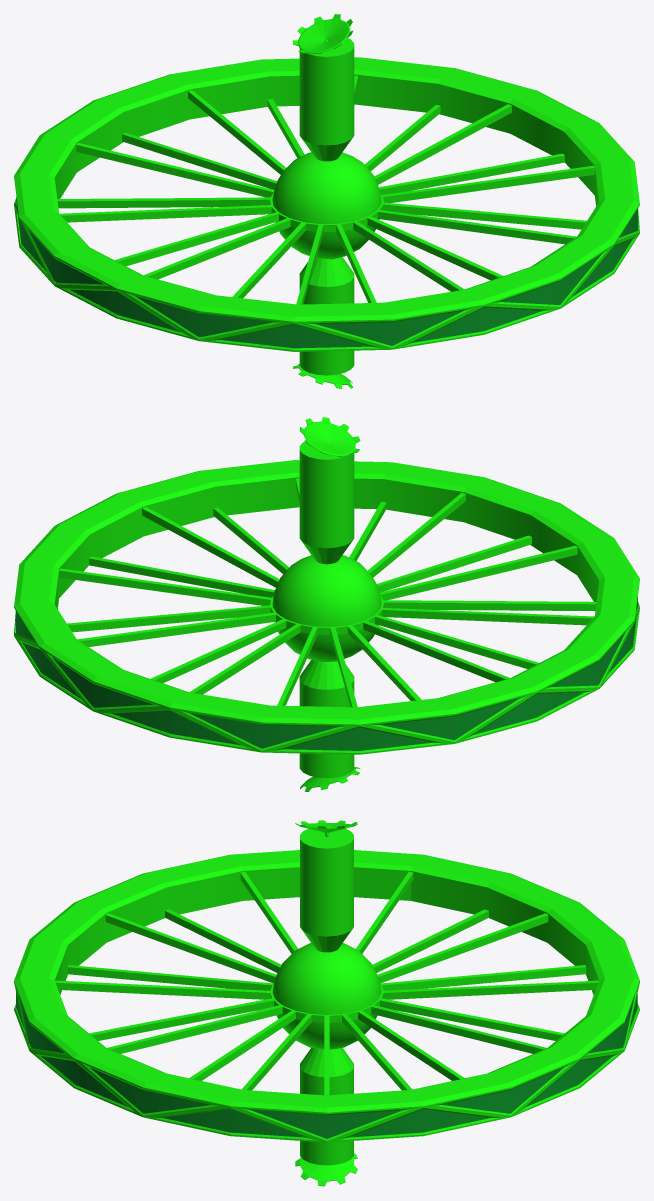
File: LP_Station+IntOrbit.FBX
The picture shows the model from 3 angles, top to bottom: view 1: azimuth 30°, elevation 25°; view 2: azimuth 150°, elevation 25°; view 3: azimuth 270°, elevation 25°; orthographic projection.
Visible parts, largest first — view 1: LP_Orbit, LP_Ring, LP_OrbitInternal, LP_Pylons, LP_Dome, LP_Dish; view 2: LP_Orbit, LP_Ring, LP_OrbitInternal, LP_Pylons, LP_Dome, LP_Dish; view 3: LP_Orbit, LP_Ring, LP_OrbitInternal, LP_Pylons, LP_Dome, LP_Dish.
Part boxes in pixels (x1,y1,x2,y2): LP_Orbit: [14, 57, 639, 351]; LP_Ring: [57, 75, 594, 304]; LP_OrbitInternal: [16, 197, 637, 348]; LP_Pylons: [299, 38, 354, 375]; LP_Dome: [272, 152, 381, 259]; LP_Dish: [293, 14, 353, 388]; LP_Orbit: [14, 460, 639, 754]; LP_Ring: [59, 478, 596, 707]; LP_OrbitInternal: [16, 597, 637, 750]; LP_Pylons: [299, 441, 354, 778]; LP_Dome: [272, 555, 381, 661]; LP_Dish: [300, 417, 360, 791]; LP_Orbit: [14, 850, 639, 1142]; LP_Ring: [55, 872, 598, 1095]; LP_OrbitInternal: [16, 992, 637, 1138]; LP_Pylons: [300, 828, 353, 1165]; LP_Dome: [272, 943, 381, 1049]; LP_Dish: [295, 820, 357, 1186].
Bounding box in the file's own units: 322 × 205 × 322.
